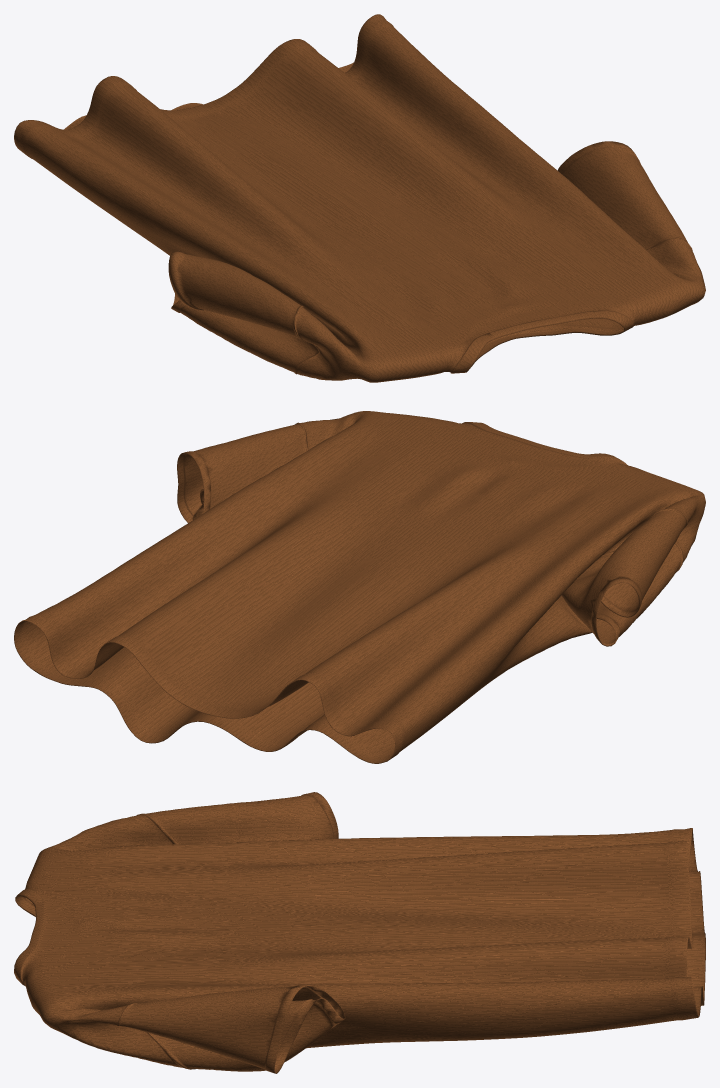
The model's file is TNSC_Tshirt_clo_4.obj.
3 views of the same model, one above another, from view 1: azimuth 30°, elevation 25°; view 2: azimuth 150°, elevation 25°; view 3: azimuth 270°, elevation 25° (orthographic). The views are drawn at different scales.
Size of the model in its own units: 19.19 by 4.2 by 24.91.
1 material, 1 textured.
